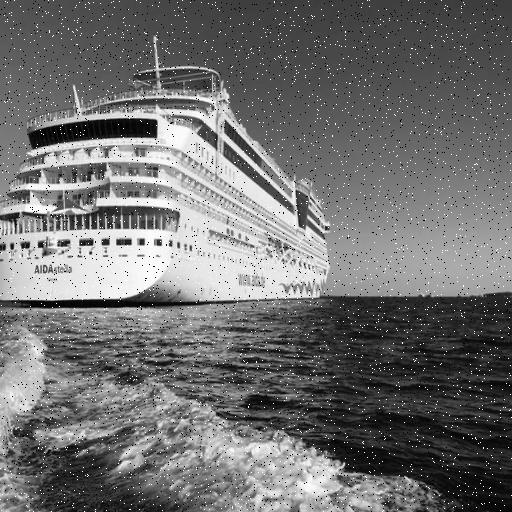cruises: (1, 32, 333, 312)
